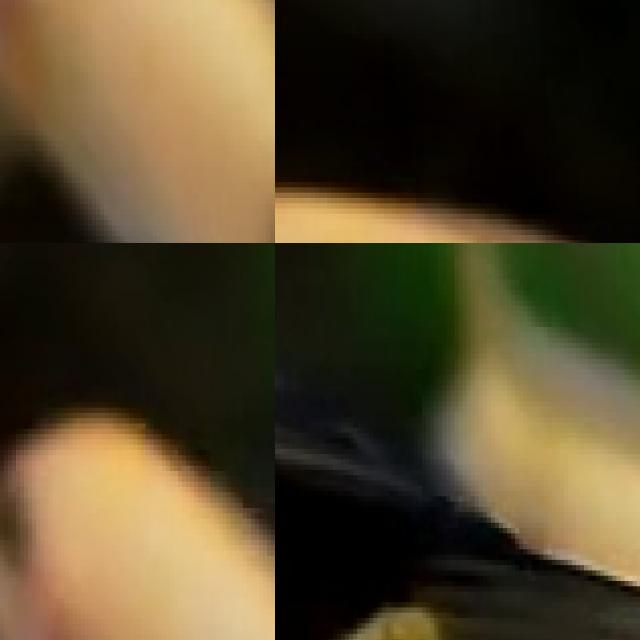fish: (275, 243, 640, 640), (0, 0, 275, 243), (0, 407, 275, 640)
